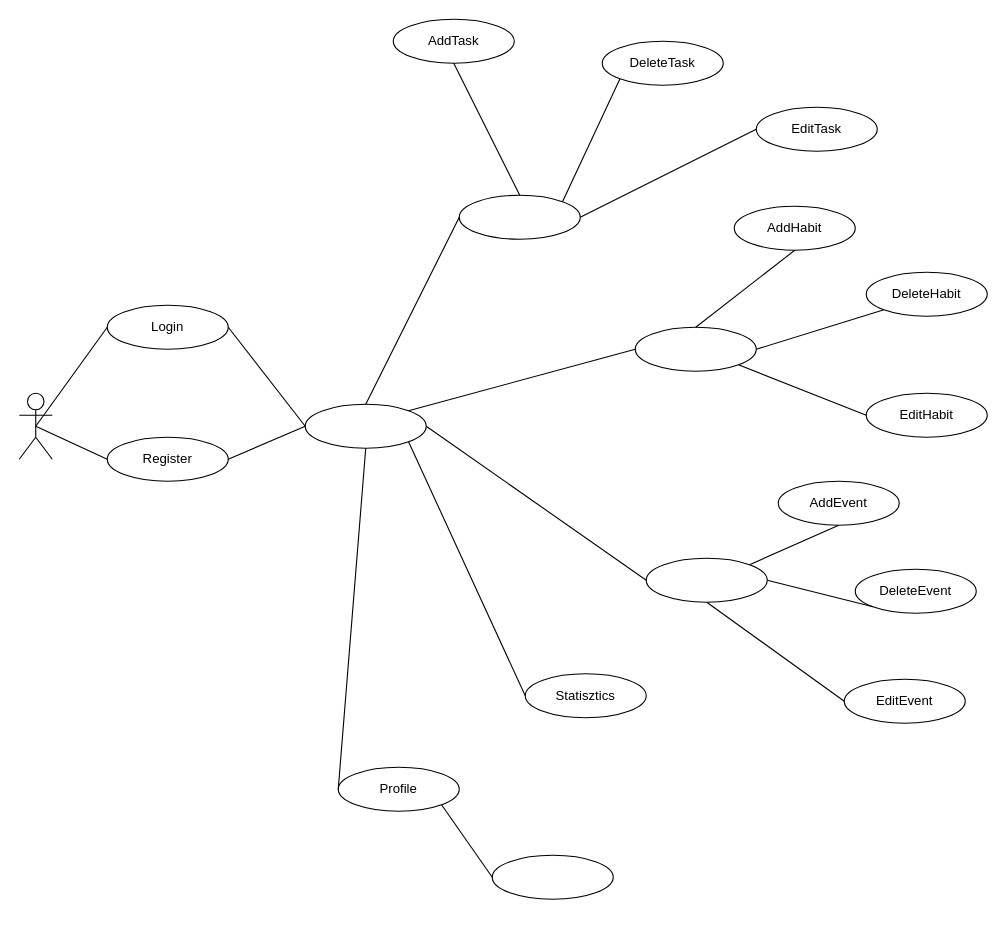
The diagram is 1007 pixels wide and 927 high, and some of its shapes have lost their labels. Each missing label, with the centre of its shape:
Calendar: point 706,579
EditProfile: point 552,876
Habits: point 695,348
Navigate: point 365,425
Tasks: point 519,216
User: point 35,425
